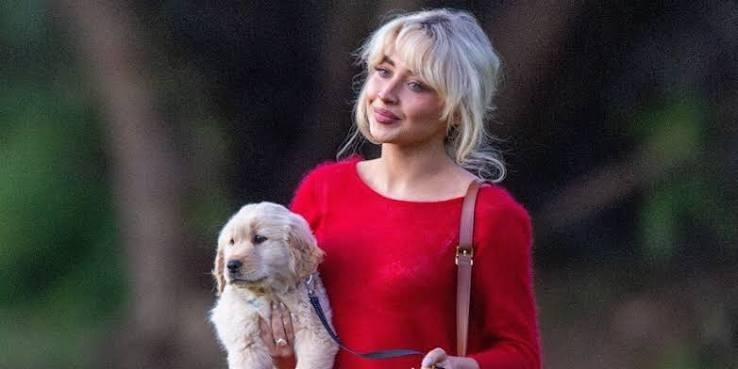non-dog: (250, 11, 543, 367)
puppy-dog: (208, 202, 340, 369)
